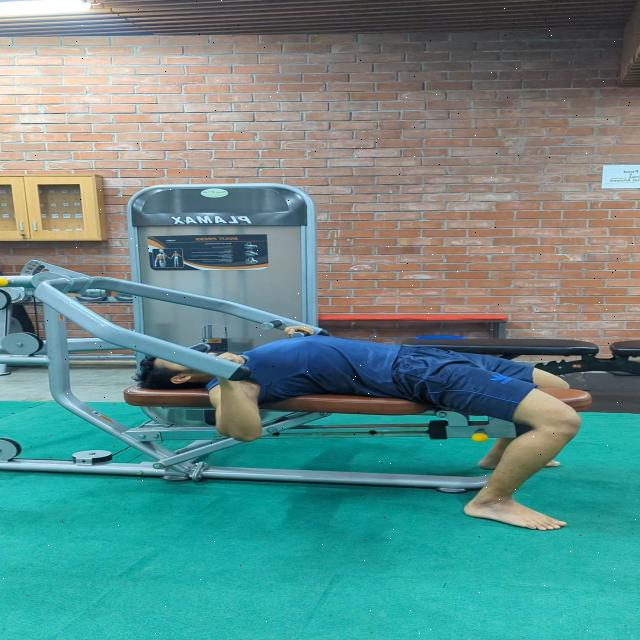Normal_BrenchPress: (144, 306, 603, 554)
